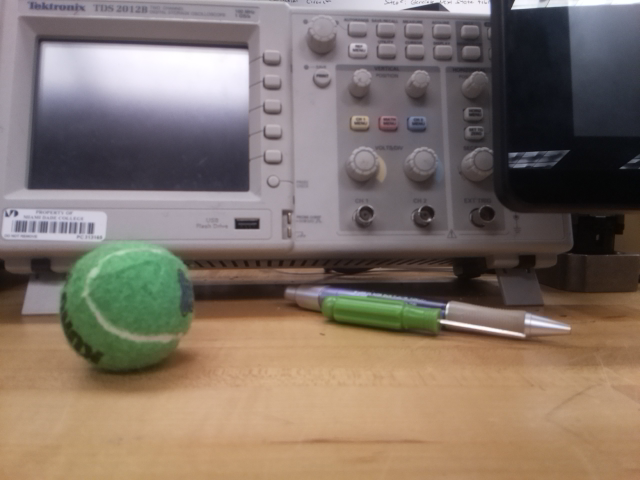green-ball: (58, 237, 196, 375)
